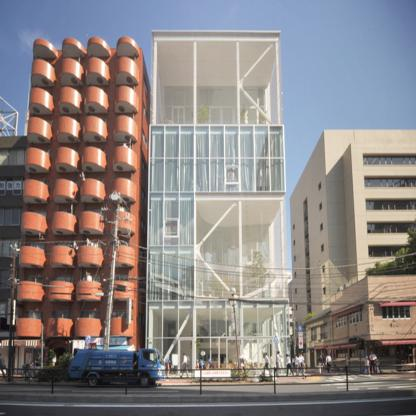Truck: (63, 348, 170, 392)
